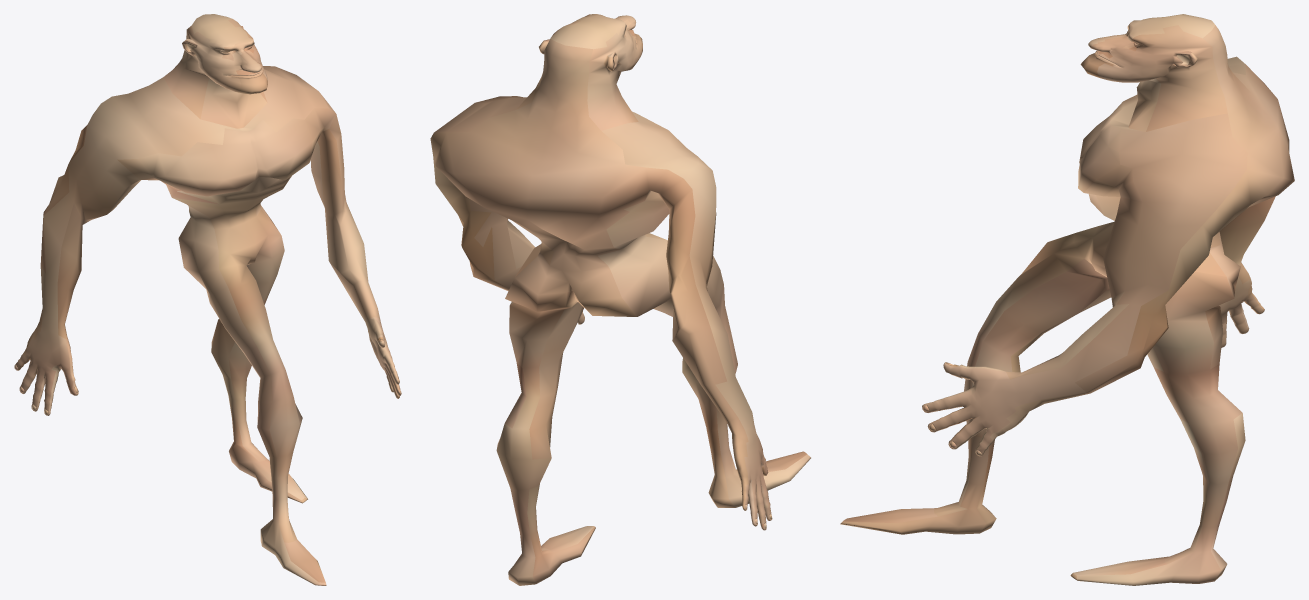
The picture shows the model from 3 angles, left to right: view 1: azimuth 30°, elevation 25°; view 2: azimuth 150°, elevation 25°; view 3: azimuth 270°, elevation 25°; orthographic projection. The views are drawn at different scales.
Visible parts, largest first — view 1: soldiersoldier120; view 2: soldiersoldier120; view 3: soldiersoldier120.
Part boxes in pixels (<box>): soldiersoldier120: <box>14,14,401,585</box>; soldiersoldier120: <box>430,14,810,585</box>; soldiersoldier120: <box>840,14,1294,585</box>.
Size of the model in its own units: 2.87 by 4.35 by 3.34.
Materials: 1 (1 with a texture image).
